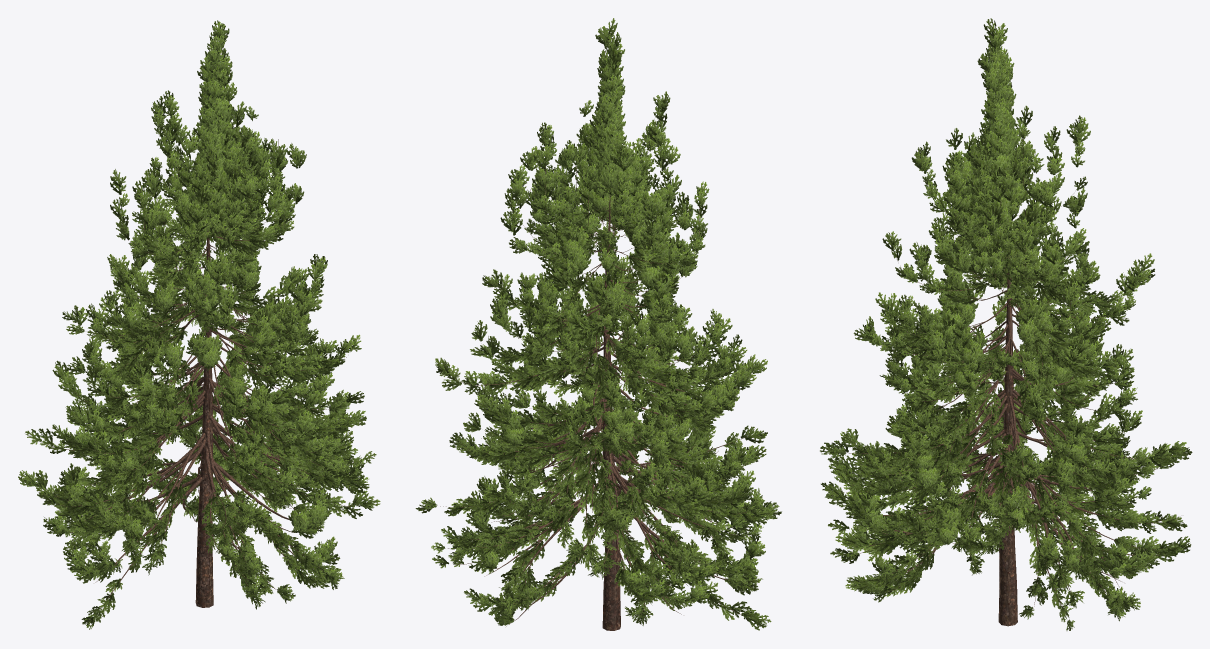
File: tree-a.glb
3 renders of one model, left to right at view 1: azimuth 30°, elevation 25°; view 2: azimuth 150°, elevation 25°; view 3: azimuth 270°, elevation 25°, orthographic. The views are drawn at different scales.
Size of the model in its own units: 50.4 by 89.1 by 50.53.
Materials: 2 (2 with a texture image).
